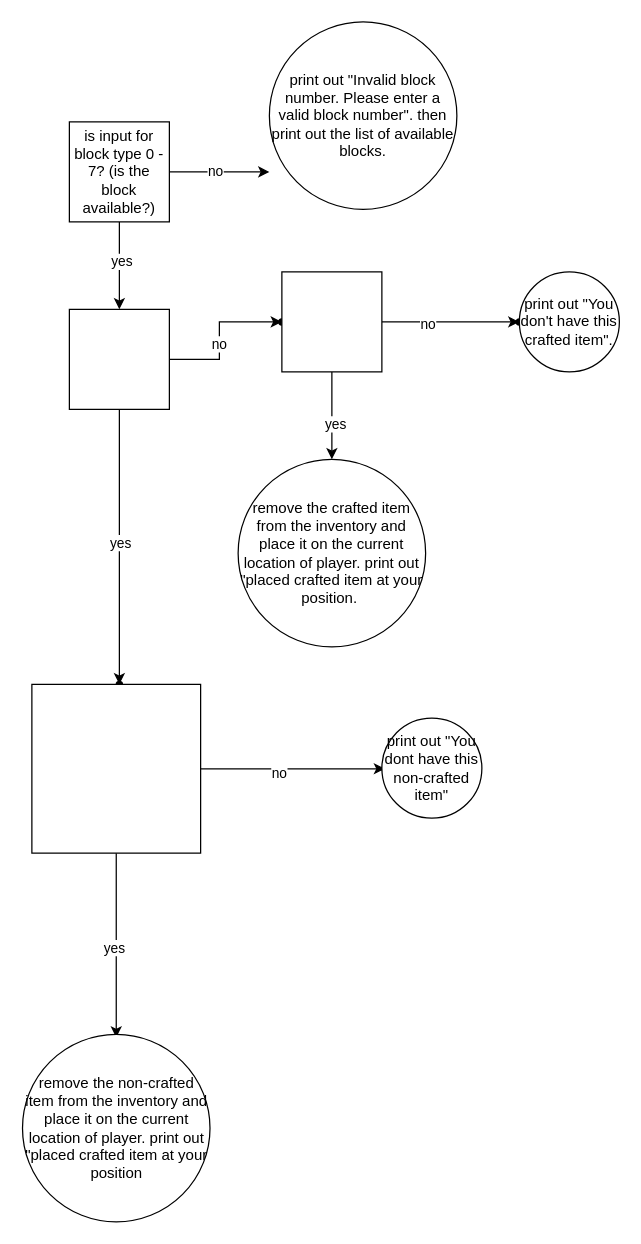
The diagram is 641 pixels wide and 1244 high, and some of its shapes have lost their labels. The centre of each missing label's shape, as x and y in pixels:
"does the inventory contain this crafted item?" goes at (331,321).
"does your inventory contain this non-crafted item?" goes at (116,768).
"is input for block type 0 - 4? (is the block a non-crafted item?)" goes at (118,358).
